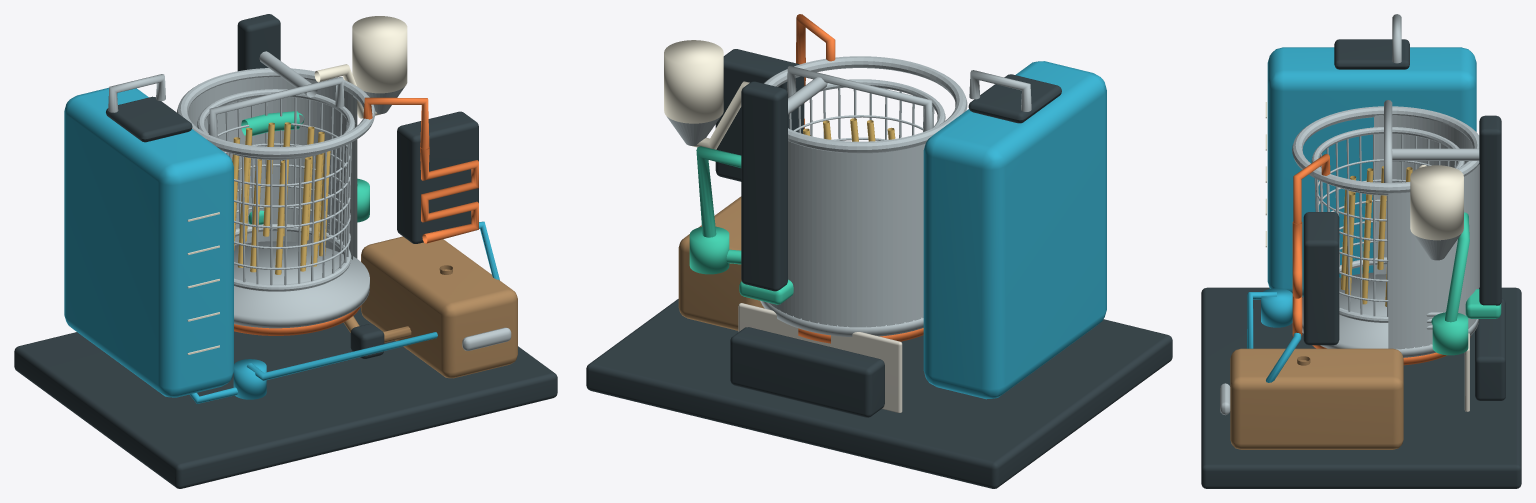
Rendered from pasta-cooker-cutaway.glb.
3 renders of one model, left to right at view 1: azimuth 30°, elevation 25°; view 2: azimuth 150°, elevation 25°; view 3: azimuth 270°, elevation 25°, orthographic. The views are drawn at different scales.
Parts seen in each view (by area): view 1: Structural drip tray base, 01 Clean water removable tank, 08 Removable waste drawer, 05 Vessel section wall, Vessel bottom, 03 Flow through heater block, 02 Separate salt hopper, Vessel rolled rim, Heated channel serpentine, Clean tank fill cap, 09 Lift rail tower, B Metered cold feed to channel (+18 smaller); view 2: 01 Clean water removable tank, Structural drip tray base, 05 Vessel section wall, 09 Lift rail tower, 10 Sealed electrical concept bay, 08 Removable waste drawer, 02 Separate salt hopper, Vessel rolled rim, Wet dry isolation barrier, 03 Flow through heater block, Clean tank fill cap, 07 Recirculation pump (+10 smaller); view 3: Structural drip tray base, 01 Clean water removable tank, 08 Removable waste drawer, 05 Vessel section wall, 03 Flow through heater block, 09 Lift rail tower, 02 Separate salt hopper, Vessel rolled rim, Vessel bottom, 10 Sealed electrical concept bay, Clean tank fill cap, 07 Recirculation pump (+19 smaller).
Boxes of the visible parts, x1,y1,x2,y2 form: Structural drip tray base: [14, 307, 557, 488]; 01 Clean water removable tank: [64, 87, 233, 397]; 08 Removable waste drawer: [361, 236, 517, 378]; 05 Vessel section wall: [188, 76, 357, 259]; Vessel bottom: [234, 241, 369, 328]; 03 Flow through heater block: [397, 111, 478, 243]; 02 Separate salt hopper: [352, 16, 407, 93]; Vessel rolled rim: [177, 68, 375, 157]; Heated channel serpentine: [420, 147, 478, 243]; Clean tank fill cap: [106, 96, 192, 142]; 09 Lift rail tower: [237, 14, 280, 71]; B Metered cold feed to channel: [247, 221, 499, 380]; 01 Clean water removable tank: [923, 61, 1106, 399]; Structural drip tray base: [586, 299, 1172, 488]; 05 Vessel section wall: [769, 86, 925, 327]; 09 Lift rail tower: [741, 81, 787, 291]; 10 Sealed electrical concept bay: [730, 327, 884, 417]; 08 Removable waste drawer: [678, 196, 764, 330]; 02 Separate salt hopper: [664, 40, 723, 123]; Vessel rolled rim: [764, 56, 967, 153]; Wet dry isolation barrier: [738, 303, 902, 412]; 03 Flow through heater block: [715, 49, 804, 181]; Clean tank fill cap: [968, 74, 1061, 123]; 07 Recirculation pump: [689, 226, 729, 274]; Structural drip tray base: [1201, 287, 1521, 488]; 01 Clean water removable tank: [1267, 47, 1476, 297]; 08 Removable waste drawer: [1230, 348, 1403, 449]; 05 Vessel section wall: [1374, 115, 1478, 349]; 03 Flow through heater block: [1303, 212, 1339, 345]; 09 Lift rail tower: [1479, 115, 1501, 305]; 02 Separate salt hopper: [1410, 165, 1463, 240]; Vessel rolled rim: [1292, 106, 1479, 193]; Vessel bottom: [1302, 272, 1478, 357]; 10 Sealed electrical concept bay: [1475, 298, 1505, 400]; Clean tank fill cap: [1334, 39, 1409, 69]; 07 Recirculation pump: [1432, 312, 1468, 355].
Size of the model in its own units: 0.48 by 0.3939 by 0.36.
